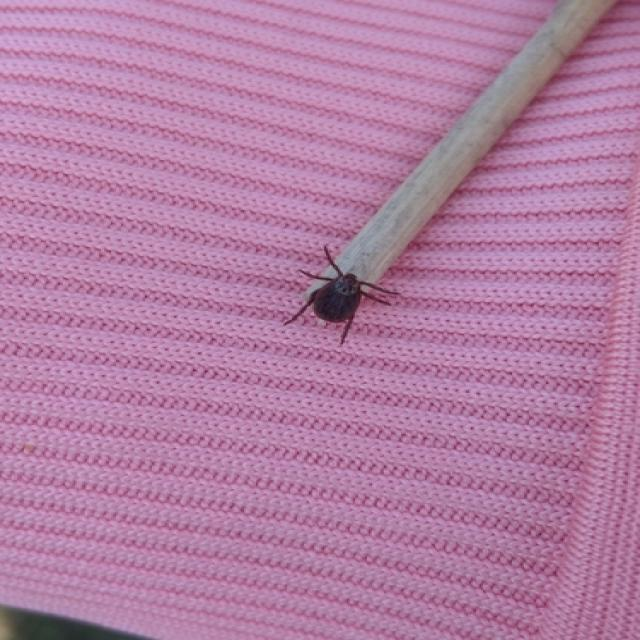Dermacentor Reticulatus-F: (299, 246, 401, 330)
